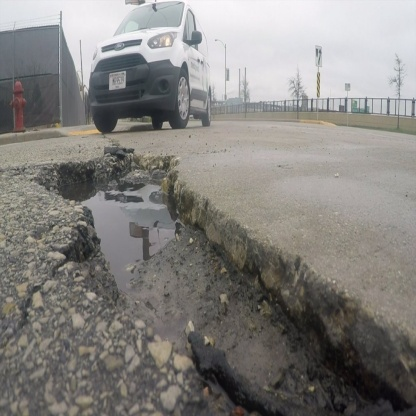pothole: (27, 144, 415, 414)
